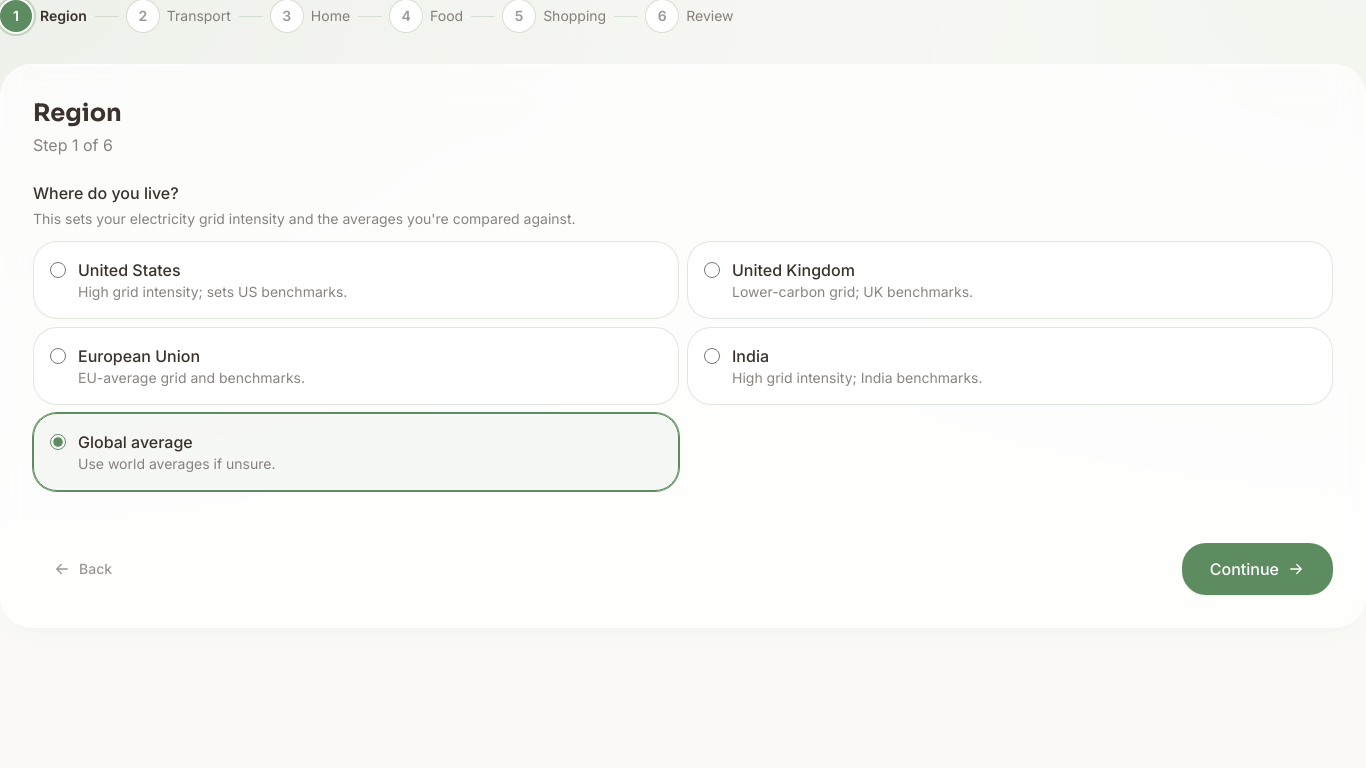
Scenario: CalculatorForm › navigates through the steps of the calculator and submits
expect the heading "Region" is shown: met, box 33,98 -> 122,128
expect the button "Back" is disabled: met, box 33,547 -> 132,591
# Choose Region
Click the radio button labelled "United States High grid intensity; sets US benchmarks." at (58, 270), box 50,262 -> 66,278
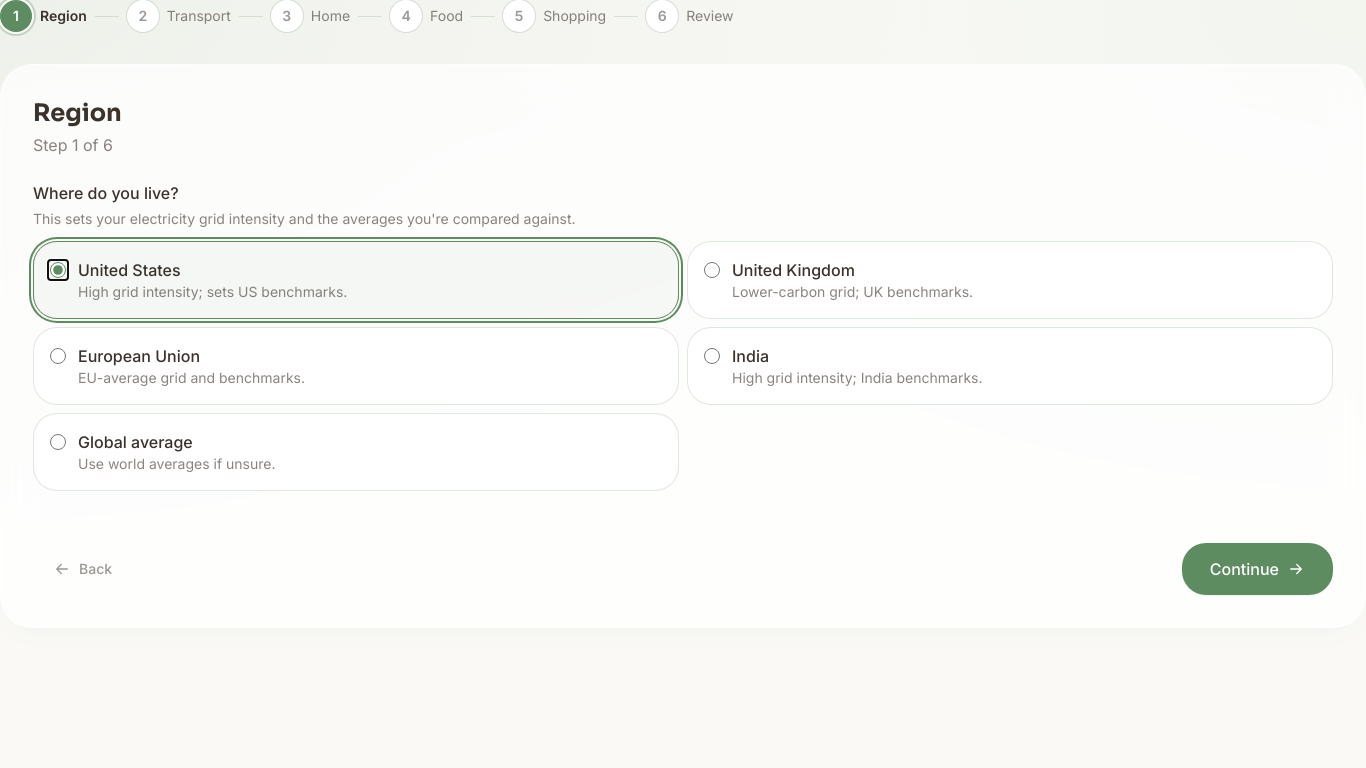
# Go to Step 2
Click the button "Continue" at (1257, 569), box 1182,543 -> 1333,595
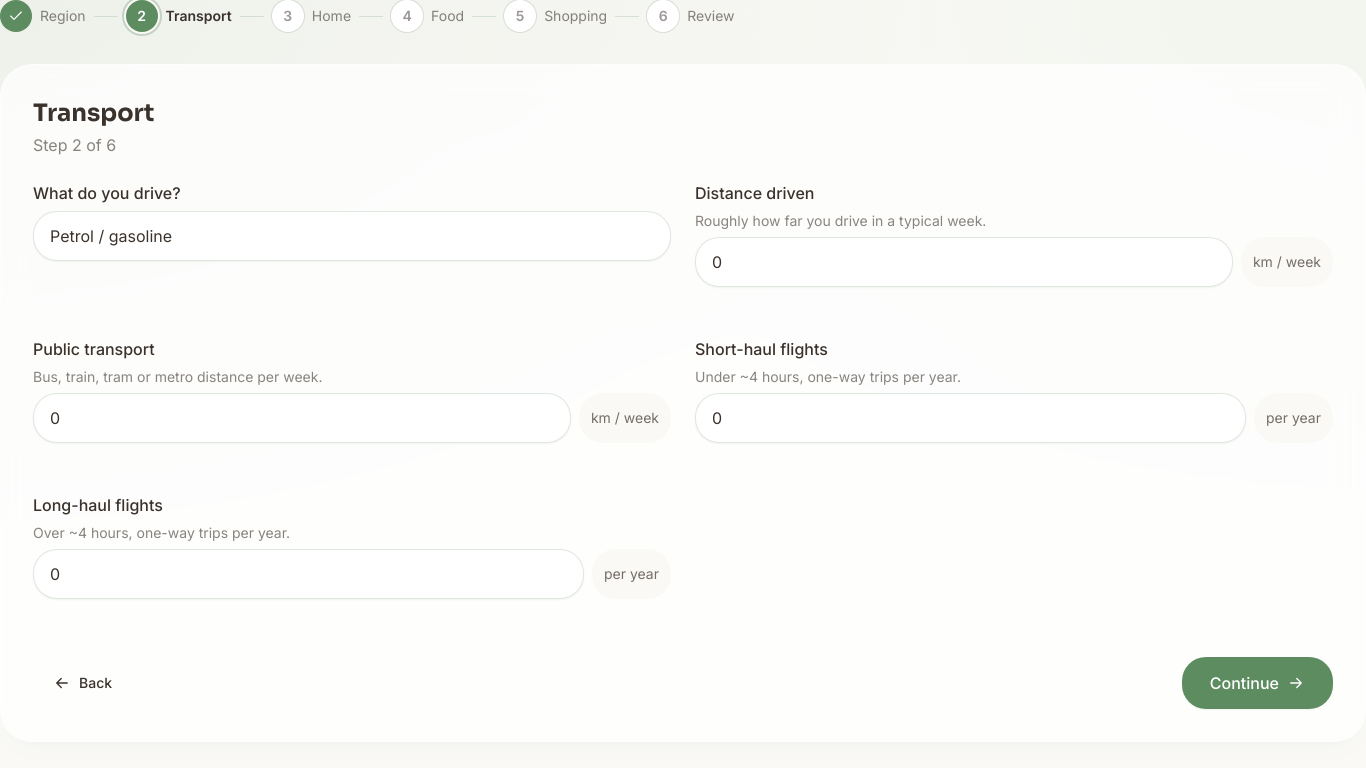
expect the heading "Transport" is shown: met, box 33,98 -> 154,128
expect the button "Back" is enabled: met, box 33,661 -> 132,705
